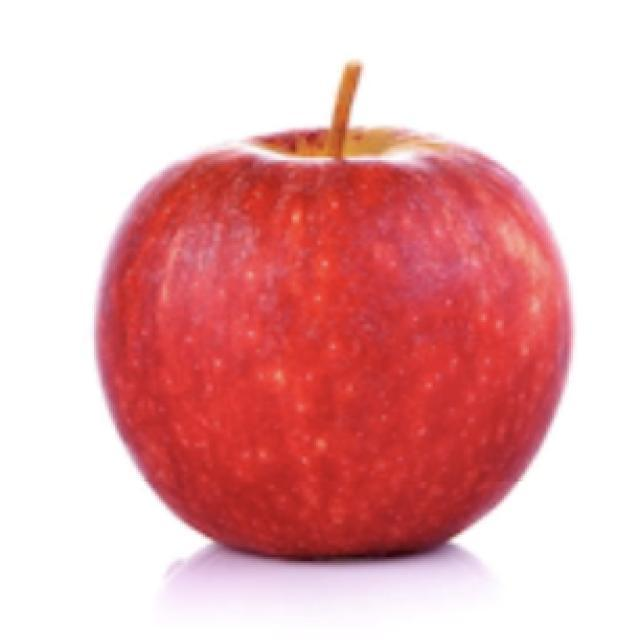Apple: (92, 59, 573, 561)
